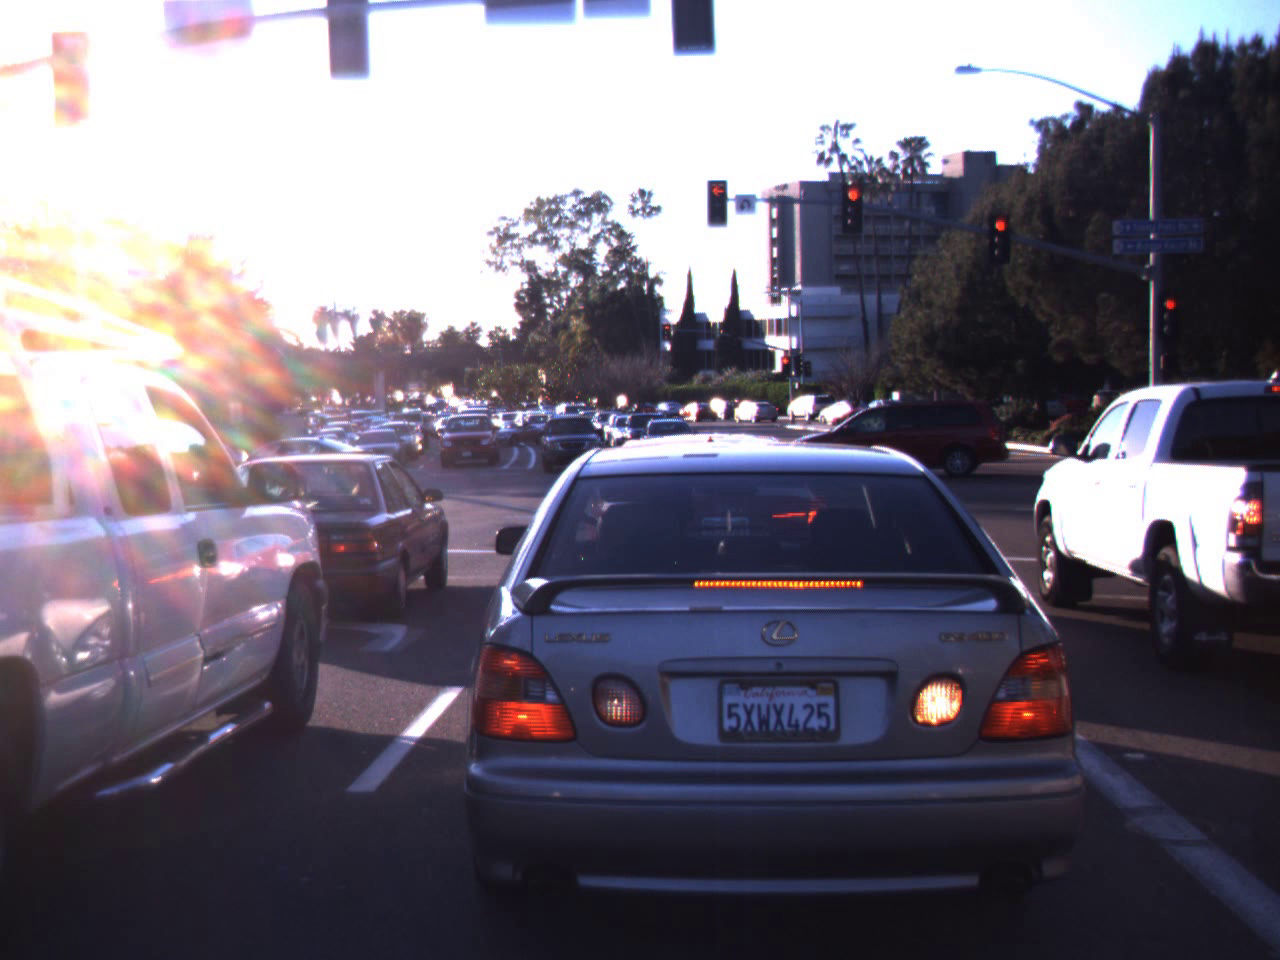Traffic_Light_stop: (990, 203, 1015, 264), (703, 179, 729, 225), (843, 183, 866, 229), (1164, 283, 1183, 335)
